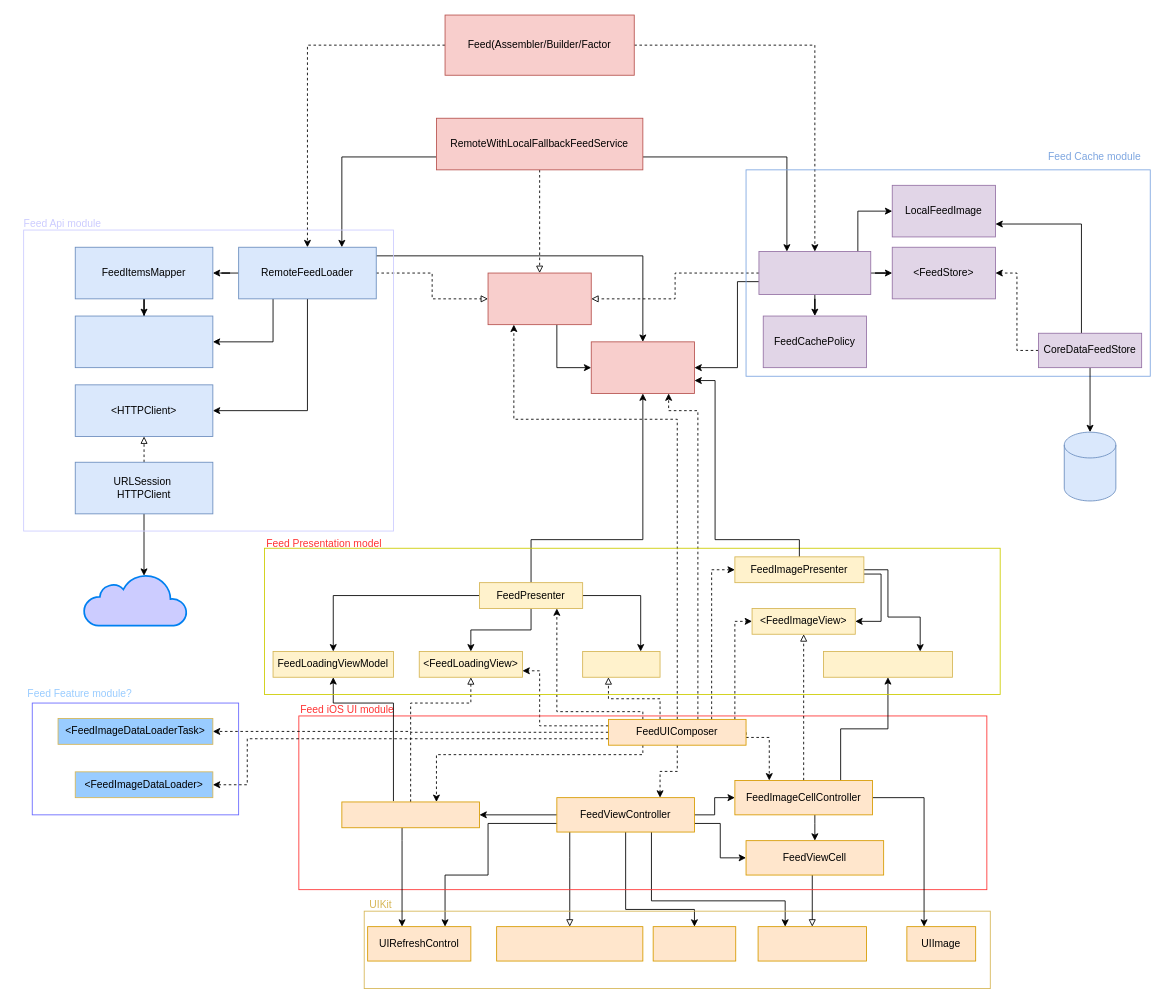
Some shapes in this 1165 by 1004 pixel diagram are drawn without their labels. Here are the shapes that lost their labels. From the top down, the box of each, then its label:
(758, 251, 871, 295): LocalFeedLoader
(487, 272, 591, 325): <FeedLoader>
(74, 315, 213, 368): RemoteFeedItem
(590, 341, 694, 393): FeedImage
(1063, 431, 1116, 501): Core Data
(582, 651, 660, 677): <FeedView>
(823, 651, 952, 677): FeedImageViewModel
(341, 801, 479, 828): FeedRefreshViewController
(496, 926, 643, 961): UITableViewController
(652, 926, 736, 961): UITableView
(757, 926, 866, 961): UITableViewCell
